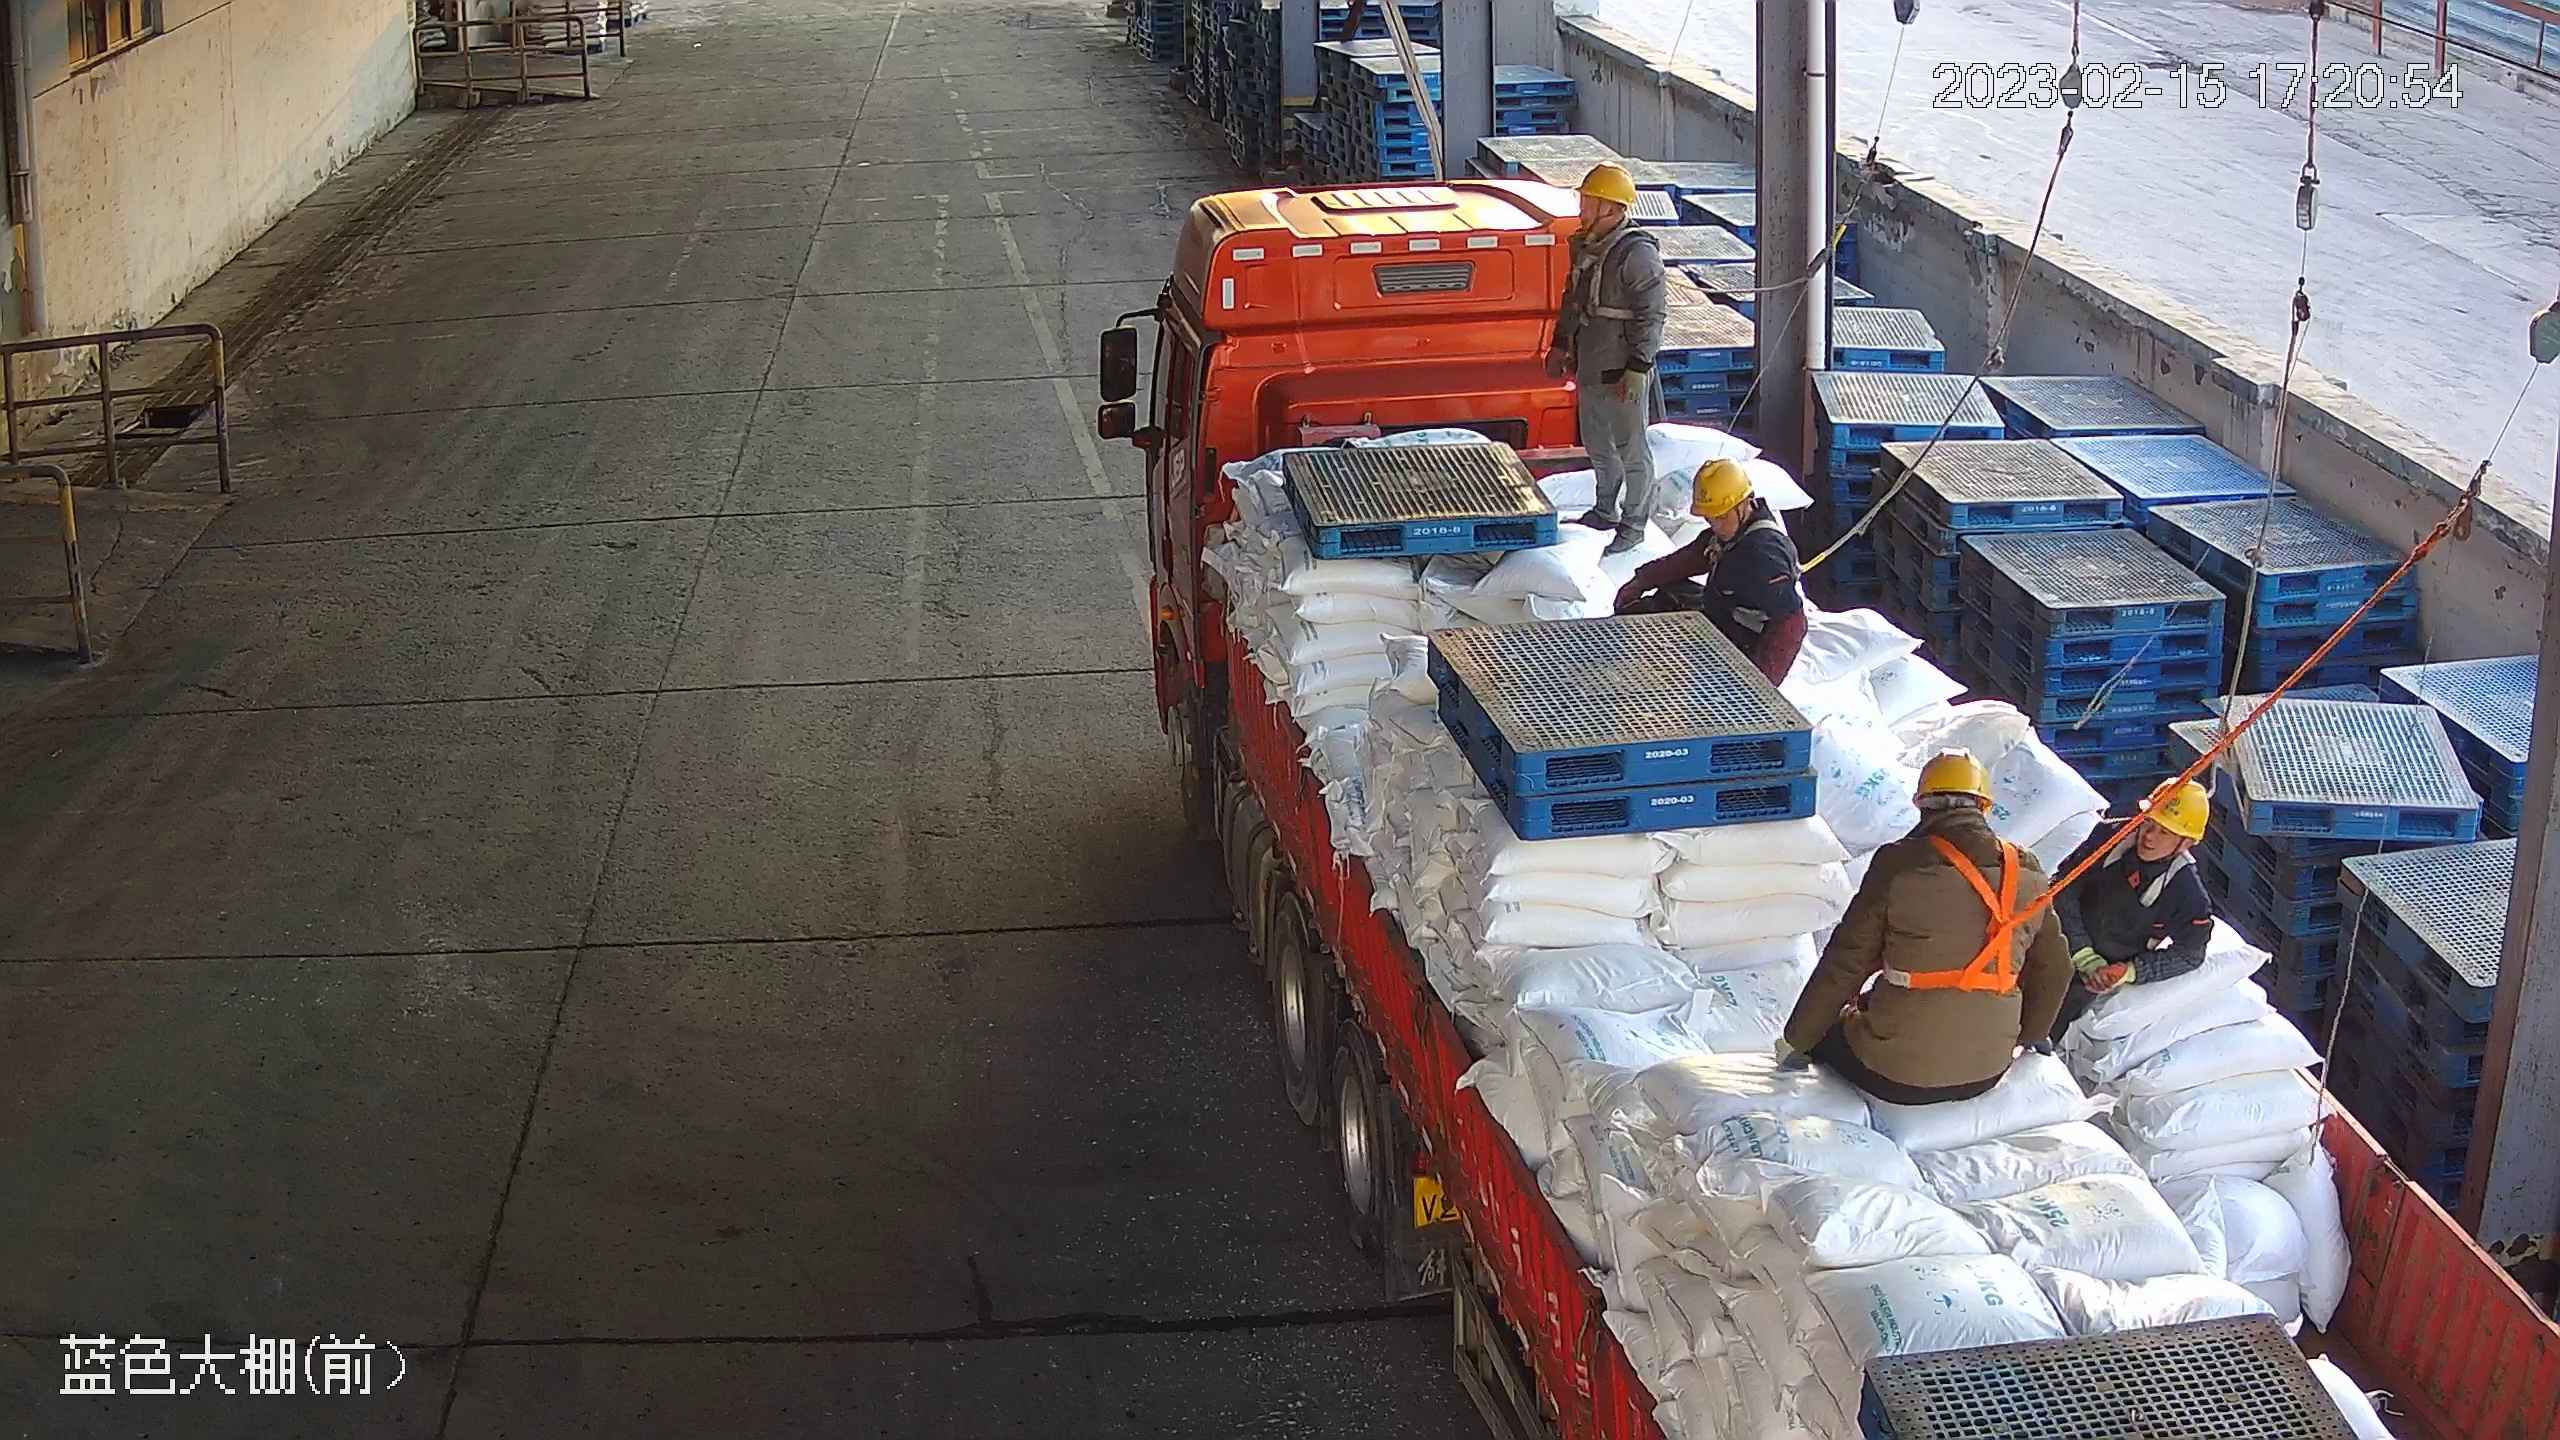belt: (1883, 825, 2046, 1003), (1562, 227, 1648, 332), (2109, 819, 2207, 910), (1696, 521, 1744, 582)
head: (1855, 753, 2036, 901), (2079, 769, 2216, 923), (1673, 453, 1799, 584), (1555, 162, 1668, 284)
helmet: (1683, 443, 1764, 529), (1914, 734, 1985, 812), (2135, 775, 2224, 836), (1573, 162, 1655, 212)
people: (1773, 740, 2073, 1102), (1559, 162, 1664, 566)
truck: (1098, 175, 2560, 1440)
